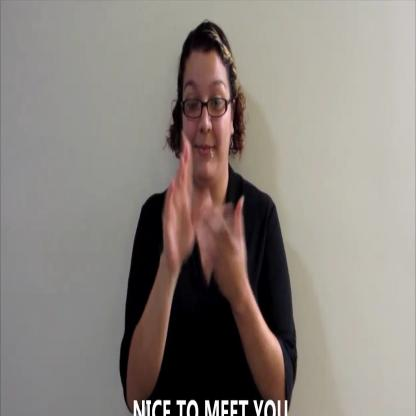NiceToMeetYou: (155, 129, 250, 310)
